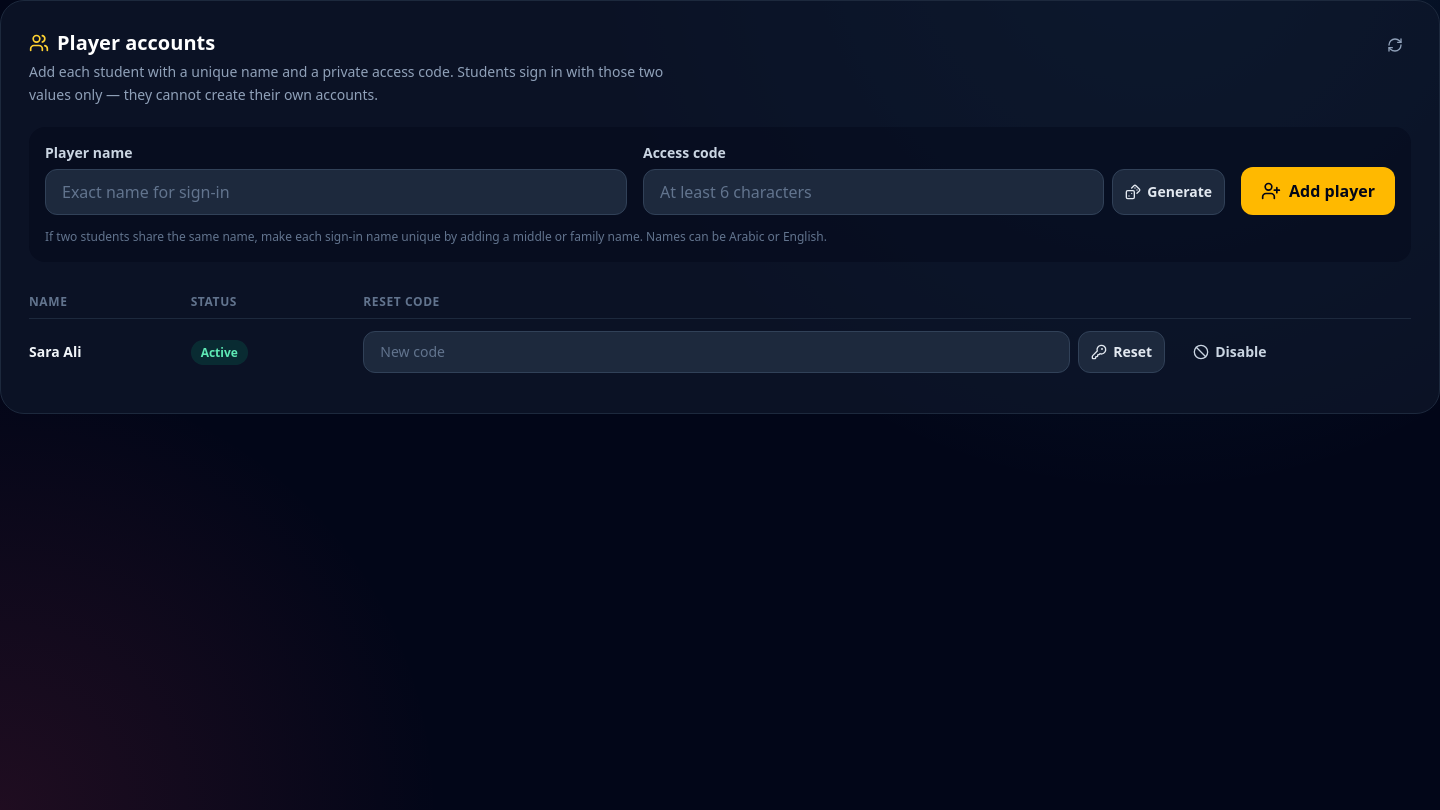
Test: <PlayerManager /> › disables a player account
Expected: the table with test id "player-table" is shown, [29,286,1411,385]
Click the button with aria-label "Disable Sara Ali".
click(1230, 352)  # box [1181,334,1279,370]
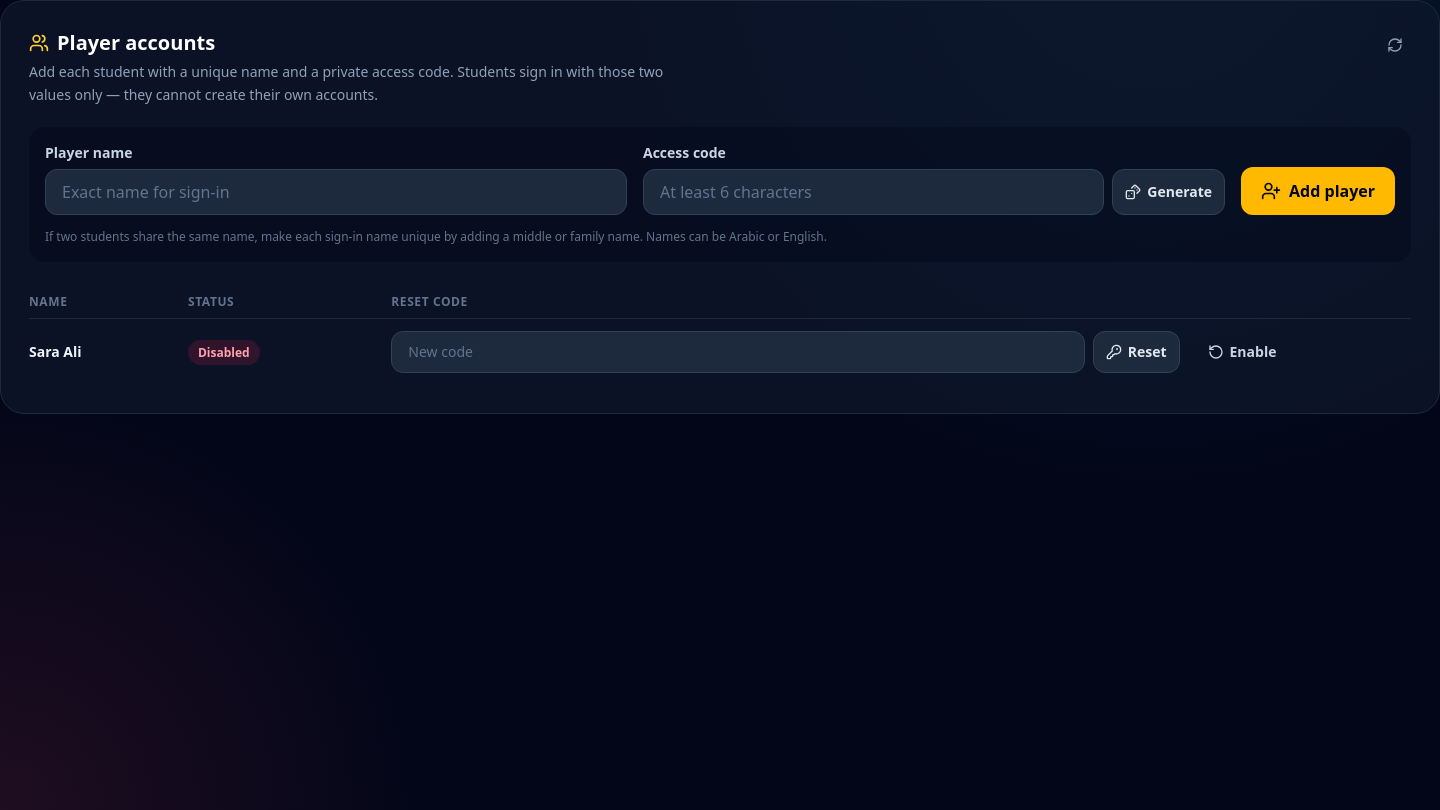
Expected: the text "Disabled" is shown, [188,340,260,365]
